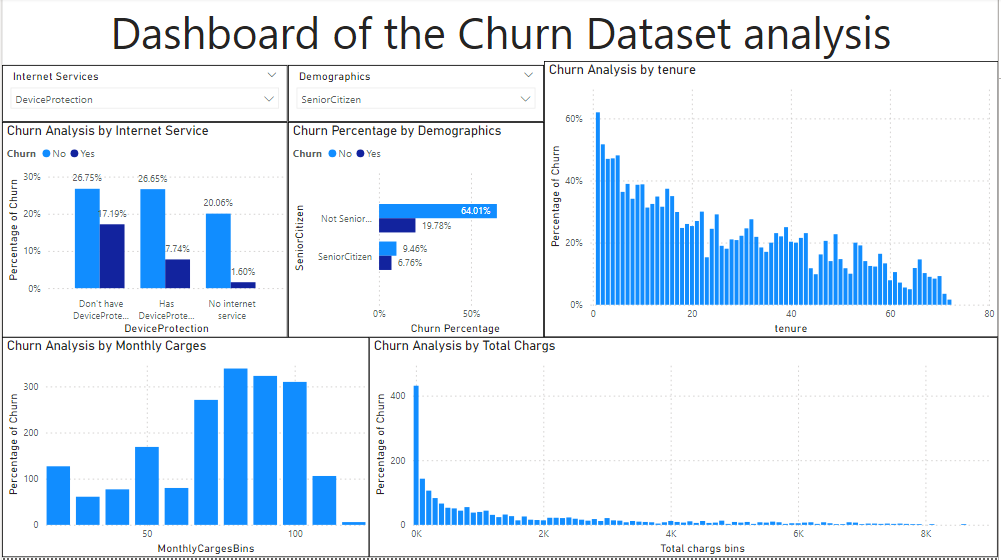

The dashboard page shown, as its layout file describes it:
{"tool":"powerbi","page":{"name":"Page 4","canvas":[1280,720],"ordinal":0},"visuals":[{"type":"textbox","box":[0,0,1280,86.2],"z":0},{"type":"slicer","fields":{"Values":["Demographics.Demographics"]},"box":[367,86.2,329.1,73.1],"z":1000},{"type":"clusteredBarChart","title":"Churn Percentage by Demographics","fields":{"Category":["Churn-Dataset.SeniorCitizen"],"Series":["Churn-Dataset.Churn"],"Y":["CountNonNull(Churn-Dataset.Churn)"]},"box":[367,159.3,329.1,276.9],"z":2000},{"type":"slicer","fields":{"Values":["Internet Services.Internet Services"]},"box":[0,86.2,367,73.1],"z":3000},{"type":"clusteredColumnChart","title":"Churn Analysis by Internet Service","fields":{"Category":["Churn-Dataset.DeviceProtection"],"Y":["CountNonNull(Churn-Dataset.Churn)"],"Series":["Churn-Dataset.Churn"]},"box":[0,159.3,367,276.9],"z":4000},{"type":"clusteredColumnChart","title":"Churn Analysis by tenure","fields":{"Category":["Churn-Dataset.tenure"],"Y":["Churn-Dataset.Churn_Yes_Percent"]},"box":[696.2,81,583.8,355.3],"z":5000},{"type":"clusteredColumnChart","title":"Churn Analysis by Total Chargs","fields":{"Category":["Churn-Dataset.Total chargs bins"],"Y":["CountNonNull(Churn-Dataset.Churn)"]},"box":[471.5,436.2,808.5,283.4],"z":6000},{"type":"clusteredColumnChart","title":"Churn Analysis by Monthly Carges","fields":{"Y":["CountNonNull(Churn-Dataset.Churn)"],"Category":["Churn-Dataset.MonthlyCargesBins"]},"box":[0,436.2,471.5,283.4],"z":7000}]}

Visuals, with their boxes in screenshot pixels (x1, y1, x2, y2), scaled from the page's 1280x720 canvas onto the 1001x560 screenshot:
textbox: 0 0 1000 67
slicer - Demographics.Demographics: 287 67 544 124
"Churn Percentage by Demographics" clusteredBarChart: 287 124 544 339
slicer - Internet Services.Internet Services: 0 67 287 124
"Churn Analysis by Internet Service" clusteredColumnChart: 0 124 287 339
"Churn Analysis by tenure" clusteredColumnChart: 544 63 1000 339
"Churn Analysis by Total Chargs" clusteredColumnChart: 369 339 1000 559
"Churn Analysis by Monthly Carges" clusteredColumnChart: 0 339 369 559
